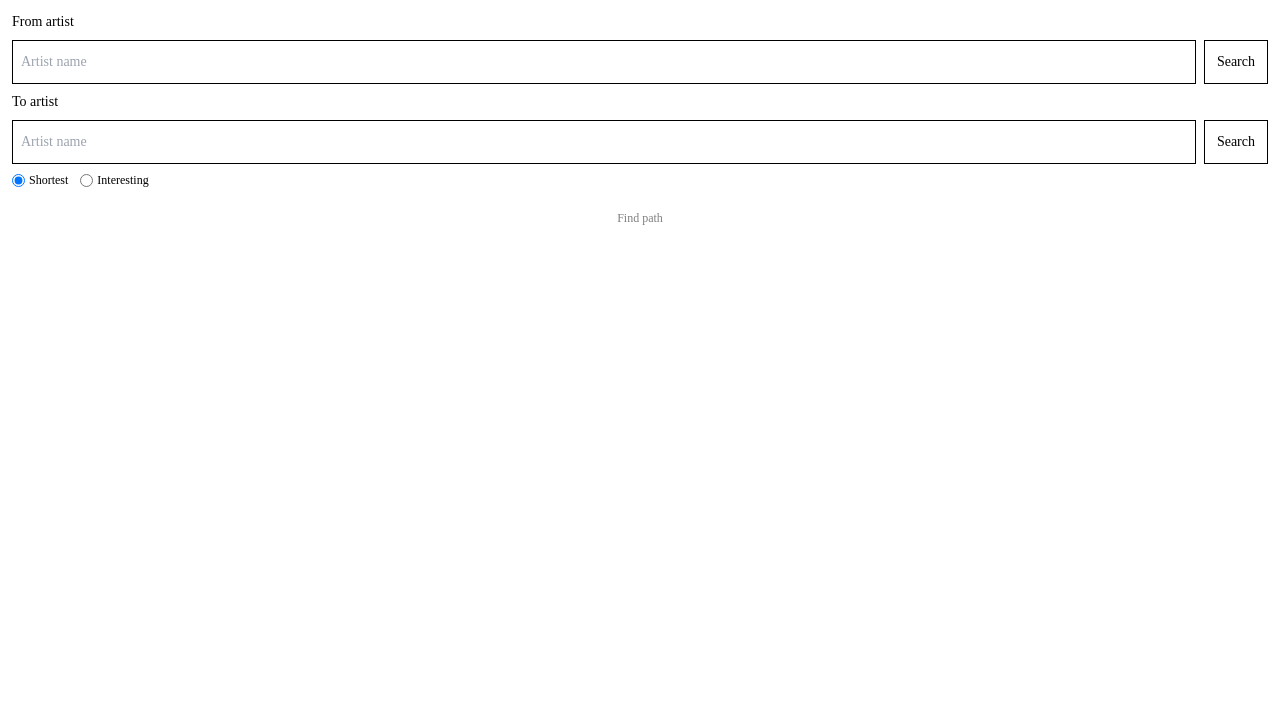
Scenario: shows honest no-path/error response 404
Step 1. Type "Name" into the field labelled "From artist" → (604, 62), box [12, 40, 1196, 84]
Step 2. Click the 1st button "Search" → (1236, 62), box [1204, 40, 1268, 84]
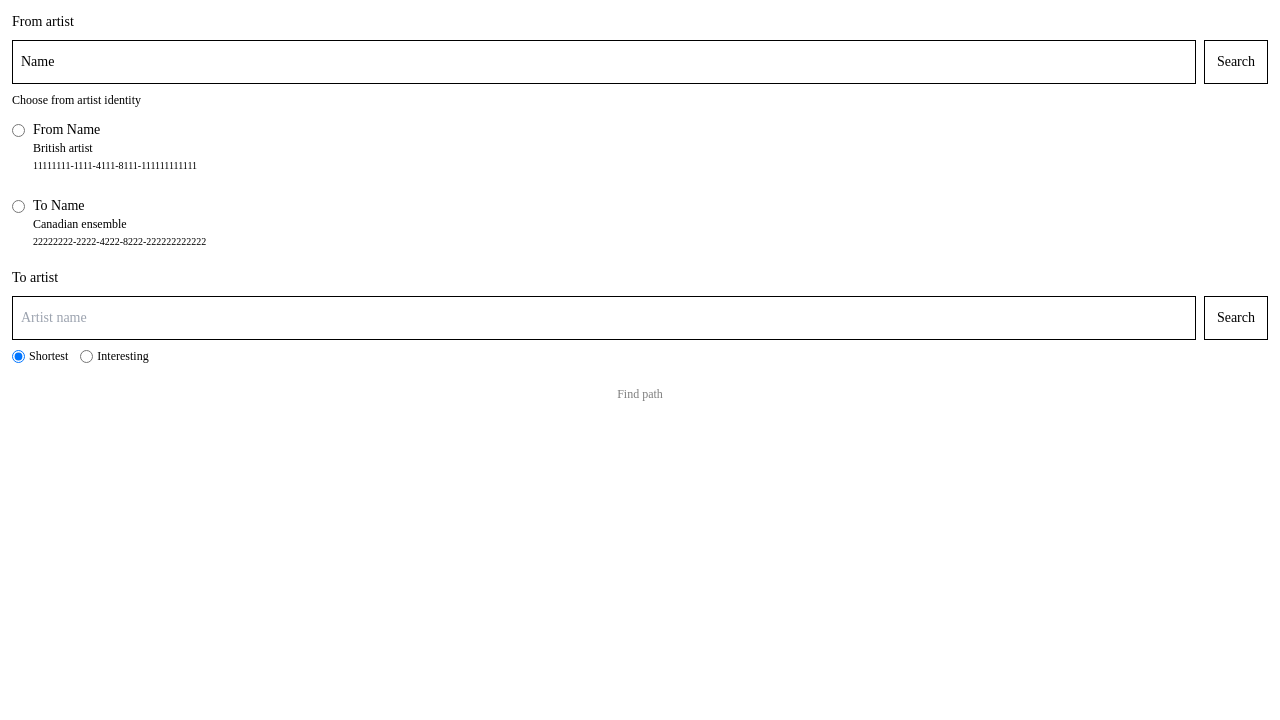
Step 3. Click the 1st radio button → (18, 130), box [12, 124, 25, 137]
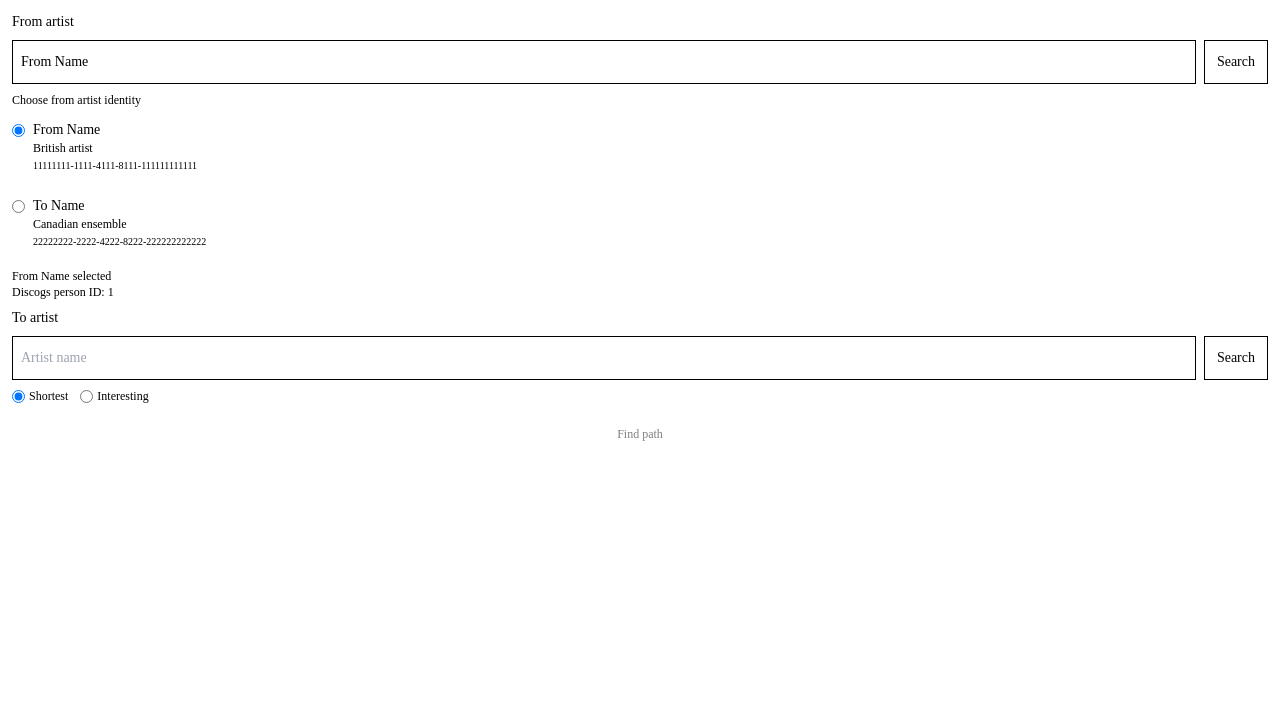
Step 4. Type "Name" into the field labelled "To artist" → (604, 358), box [12, 336, 1196, 380]
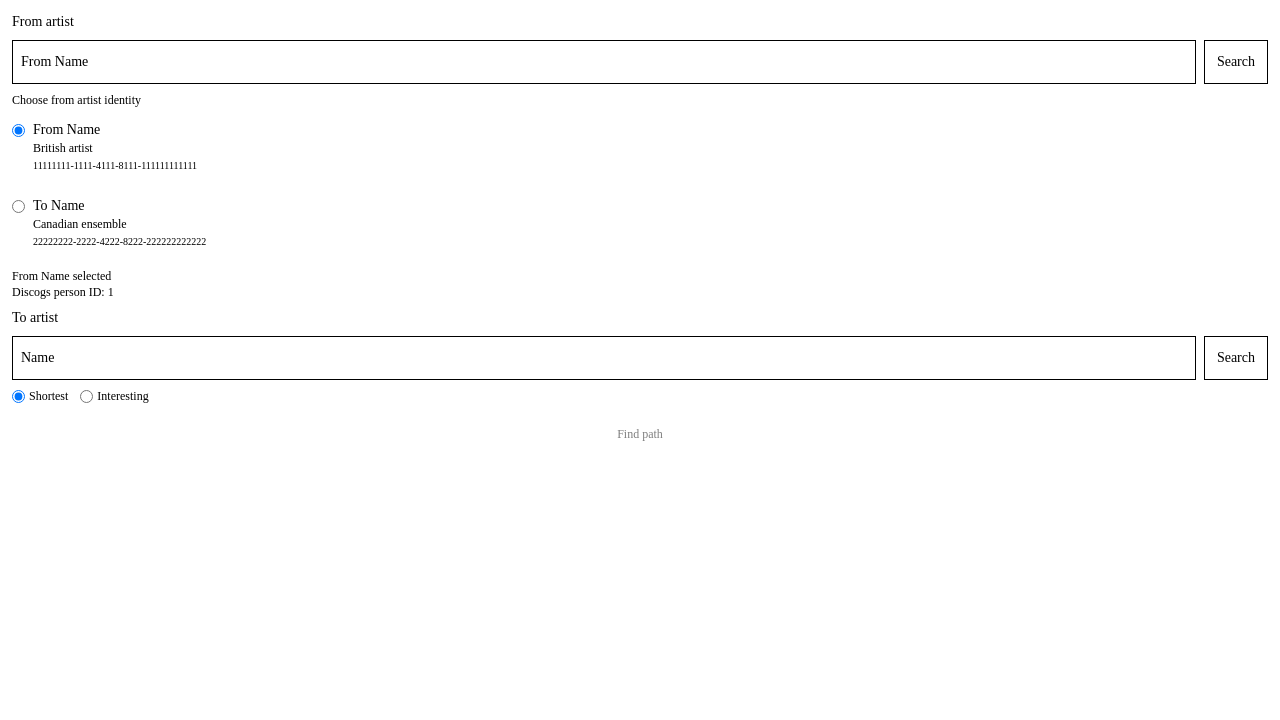
Step 5. Click the 2nd button "Search" → (1236, 358), box [1204, 336, 1268, 380]
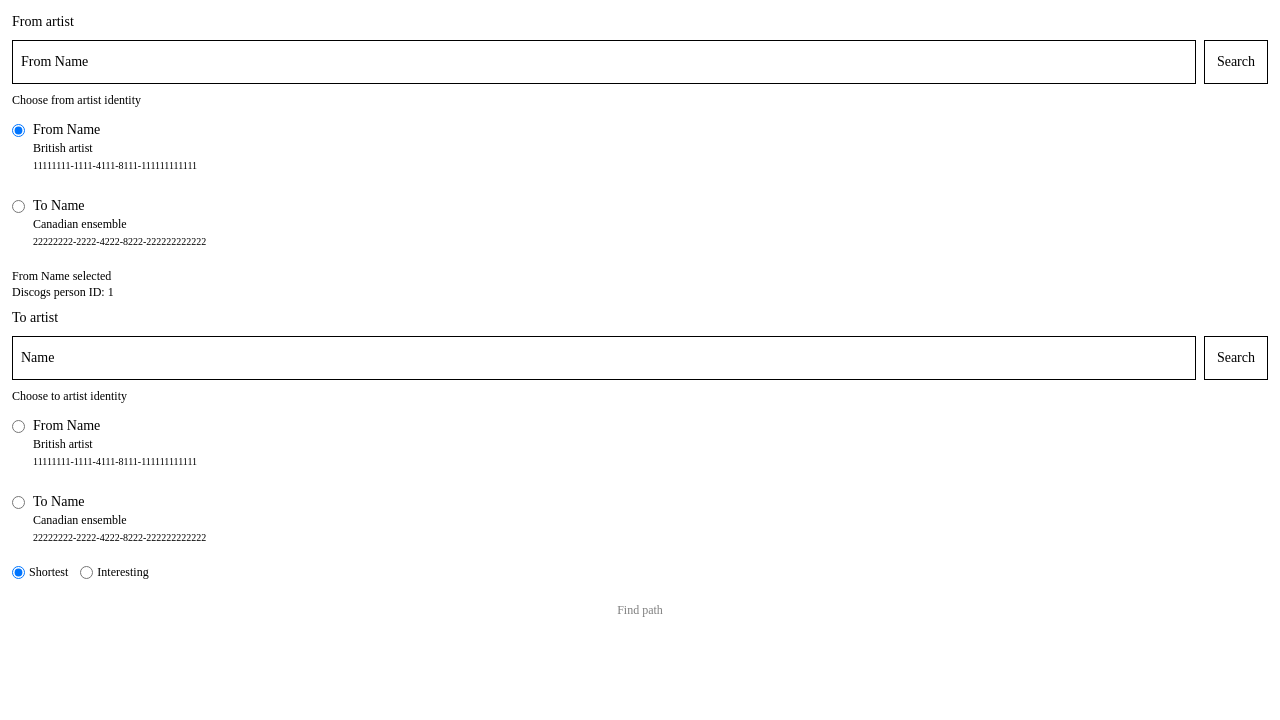
Step 6. Click the 4th radio button → (18, 502), box [12, 496, 25, 509]
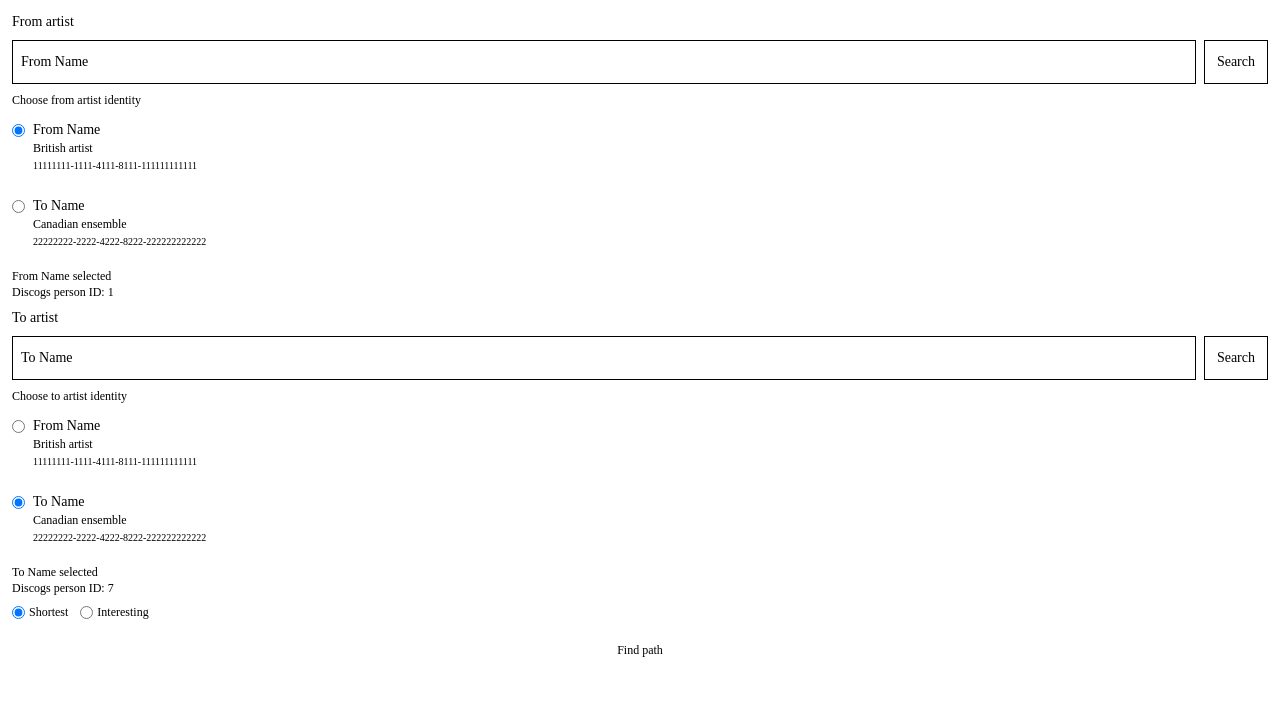
Step 7. Click the button "Find path" → (640, 650), box [12, 628, 1268, 672]
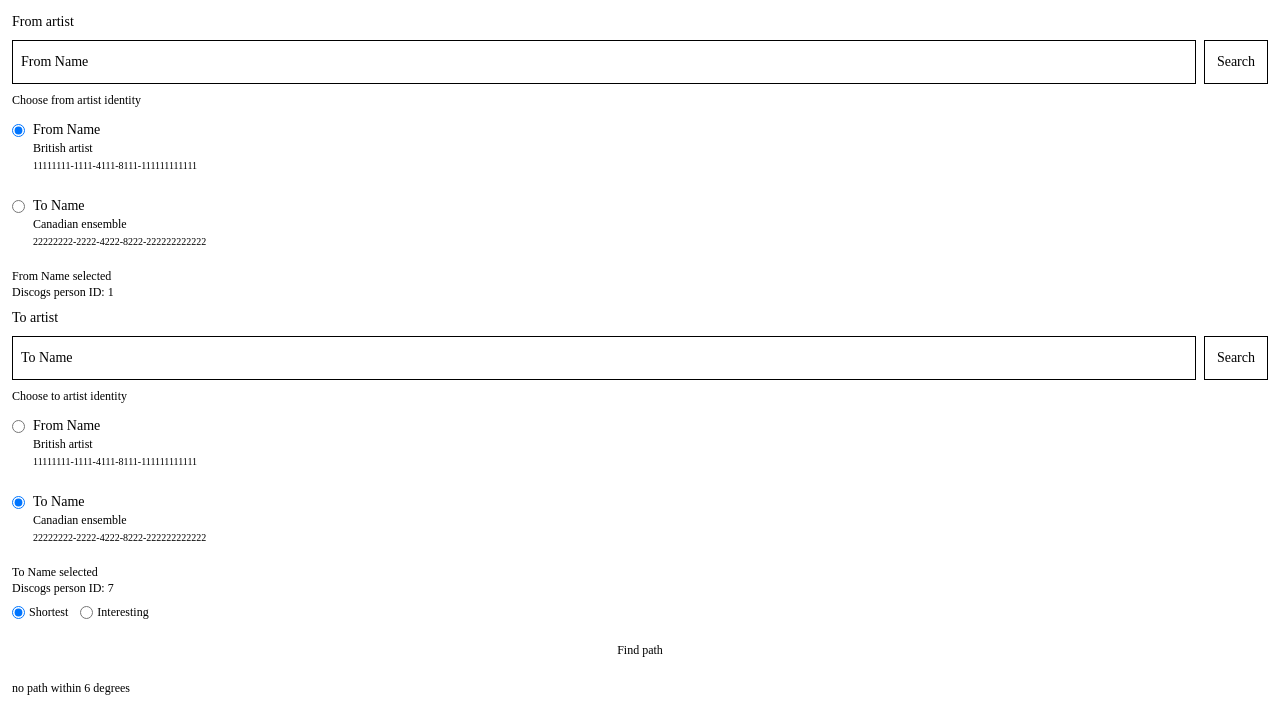
Check: the text with test id "path-finder-empty" reads "no path within 6 degrees", box [12, 681, 130, 695]
